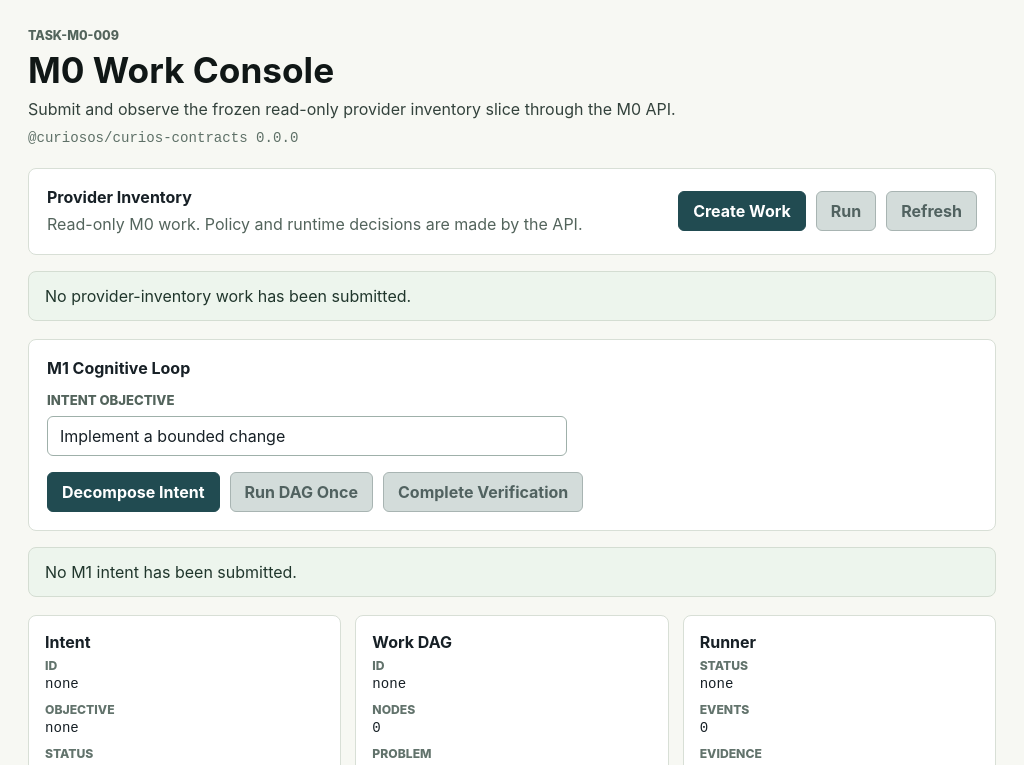
Test case: TASK-M0-009 web work console › creates and runs provider inventory work through the API boundary
Click the button "Create Work": (742, 211) top-left (678, 191), bottom-right (806, 231)
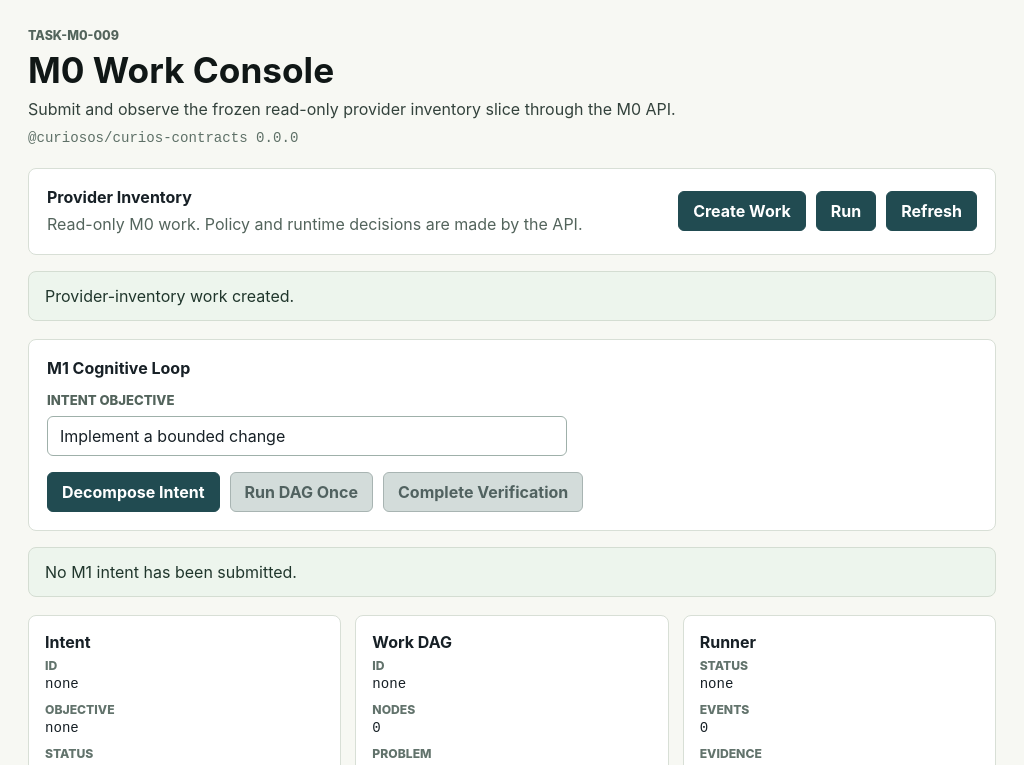
Click the button "Run": (846, 211) top-left (816, 191), bottom-right (876, 231)
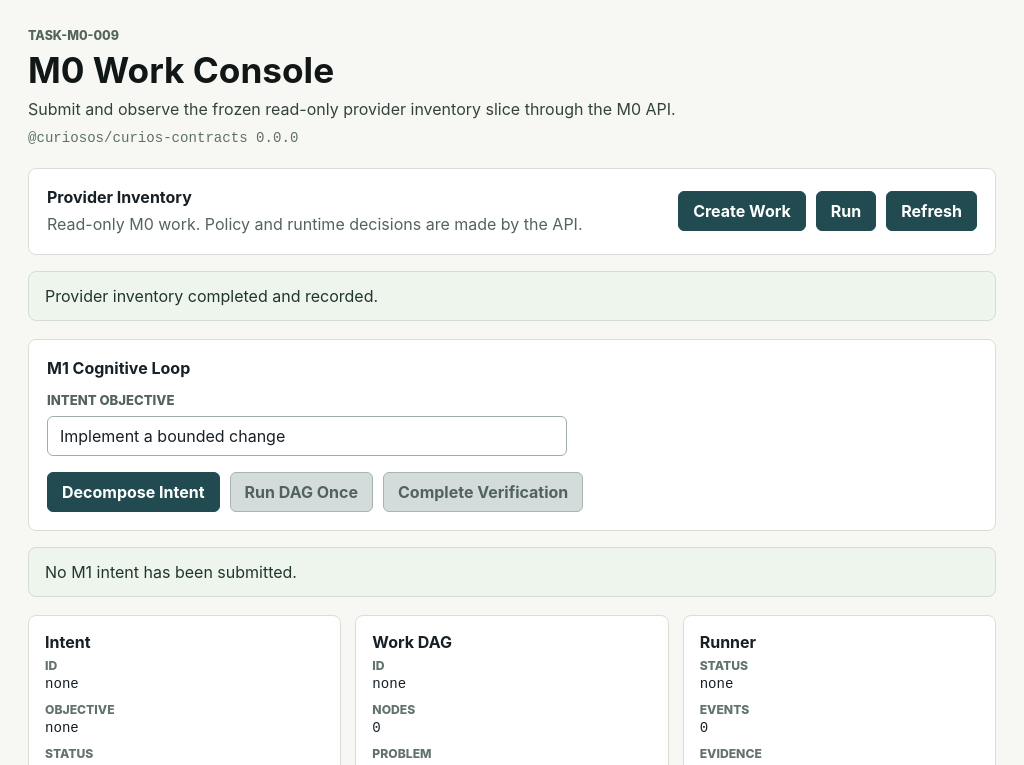
expect the text "Provider inventory completed and recorded." is shown: met, box top-left (28, 271), bottom-right (996, 321)
